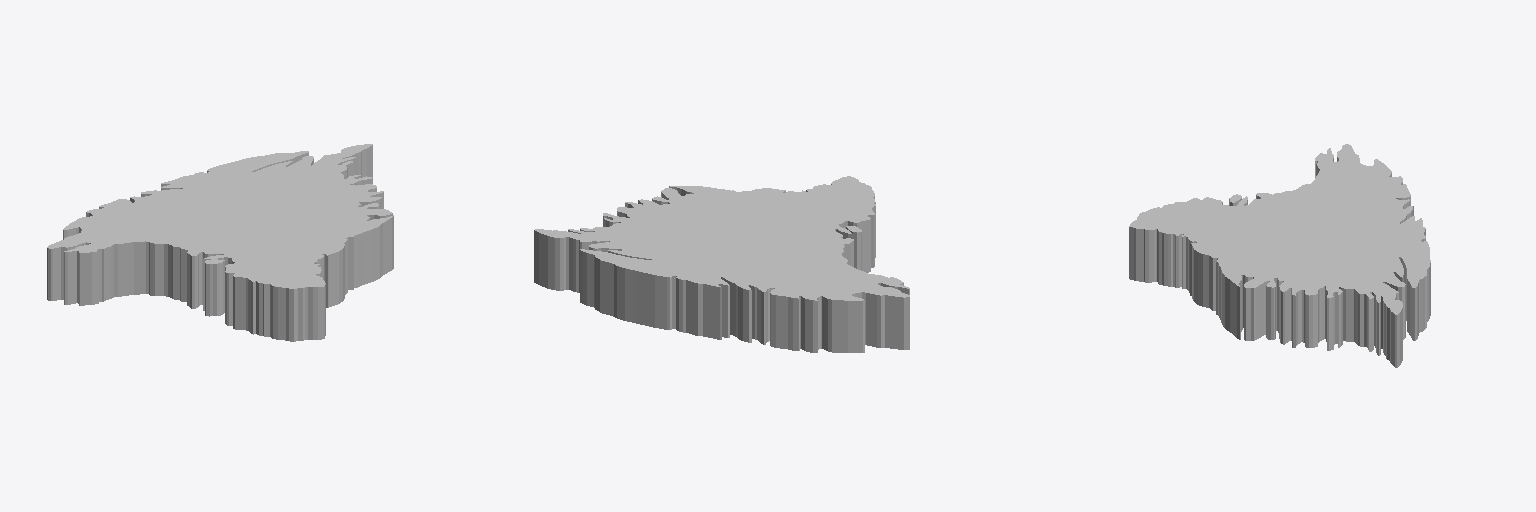
3 renders of one model, left to right at view 1: azimuth 30°, elevation 25°; view 2: azimuth 150°, elevation 25°; view 3: azimuth 270°, elevation 25°, orthographic.
Parts seen in each view (by area): view 1: GL.002_CUCurve.1763; view 2: GL.002_CUCurve.1763; view 3: GL.002_CUCurve.1763.
Boxes of the visible parts, x1,y1,x2,y2 form: GL.002_CUCurve.1763: [47, 144, 393, 341]; GL.002_CUCurve.1763: [534, 176, 909, 352]; GL.002_CUCurve.1763: [1129, 144, 1430, 367].
Bounding box in the file's own units: 0.3476 × 0.05 × 0.2593.